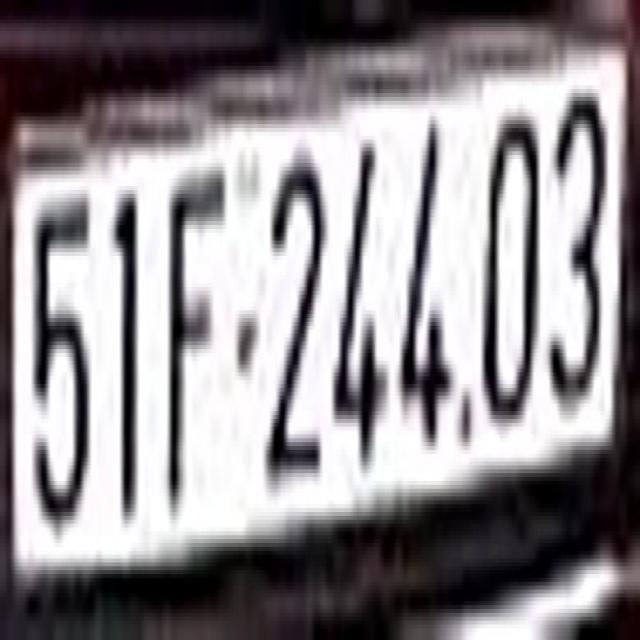0: (477, 85, 543, 423)
1: (110, 182, 144, 520)
2: (256, 116, 323, 481)
3: (540, 46, 608, 422)
4: (335, 81, 390, 489), (397, 78, 453, 458)
5: (29, 178, 92, 536)
F: (160, 143, 228, 516)
